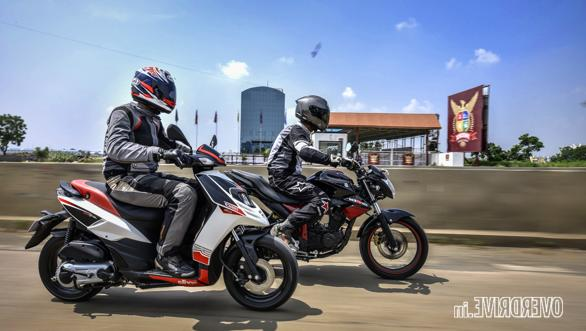With Helmet: (130, 65, 180, 113), (295, 93, 331, 127)
